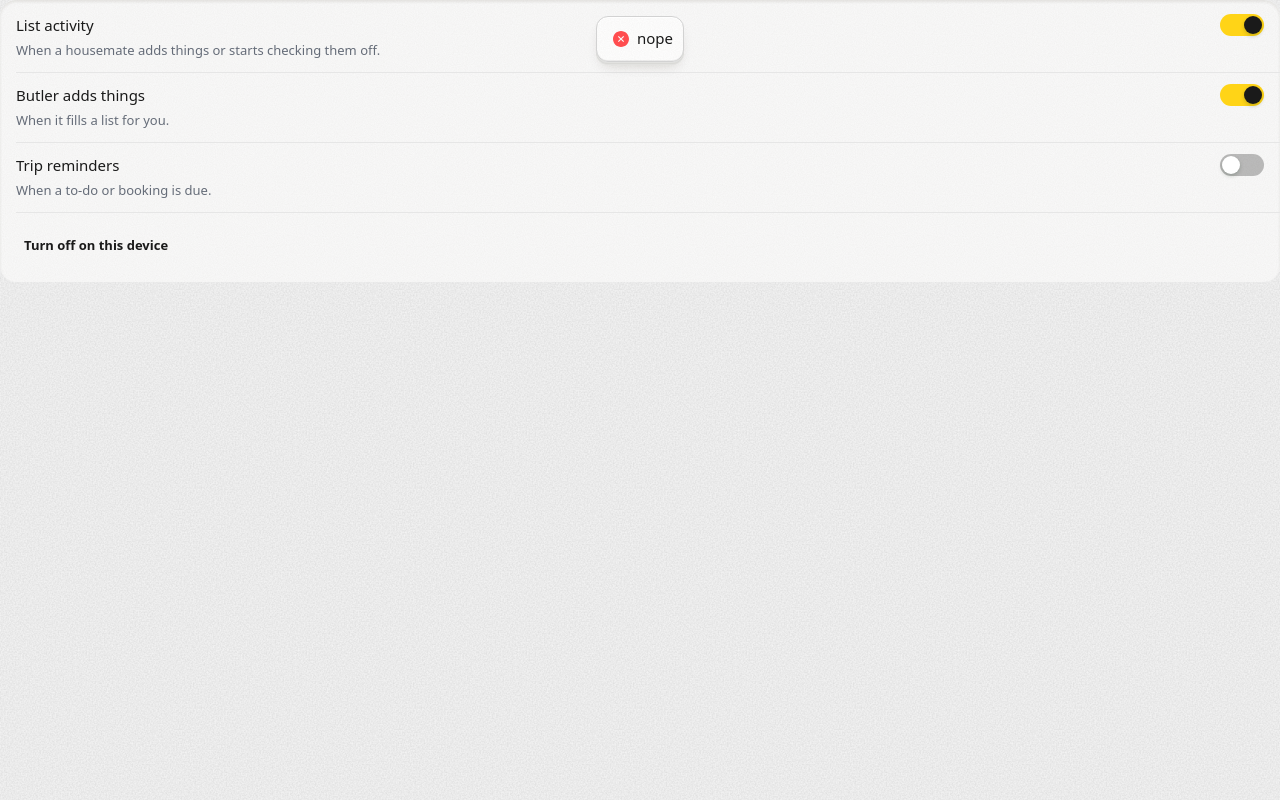
Notifications in Account settings › turns off on this device
Click the button "Turn off on this device".
click(96, 246)  # box [16,224,176,268]
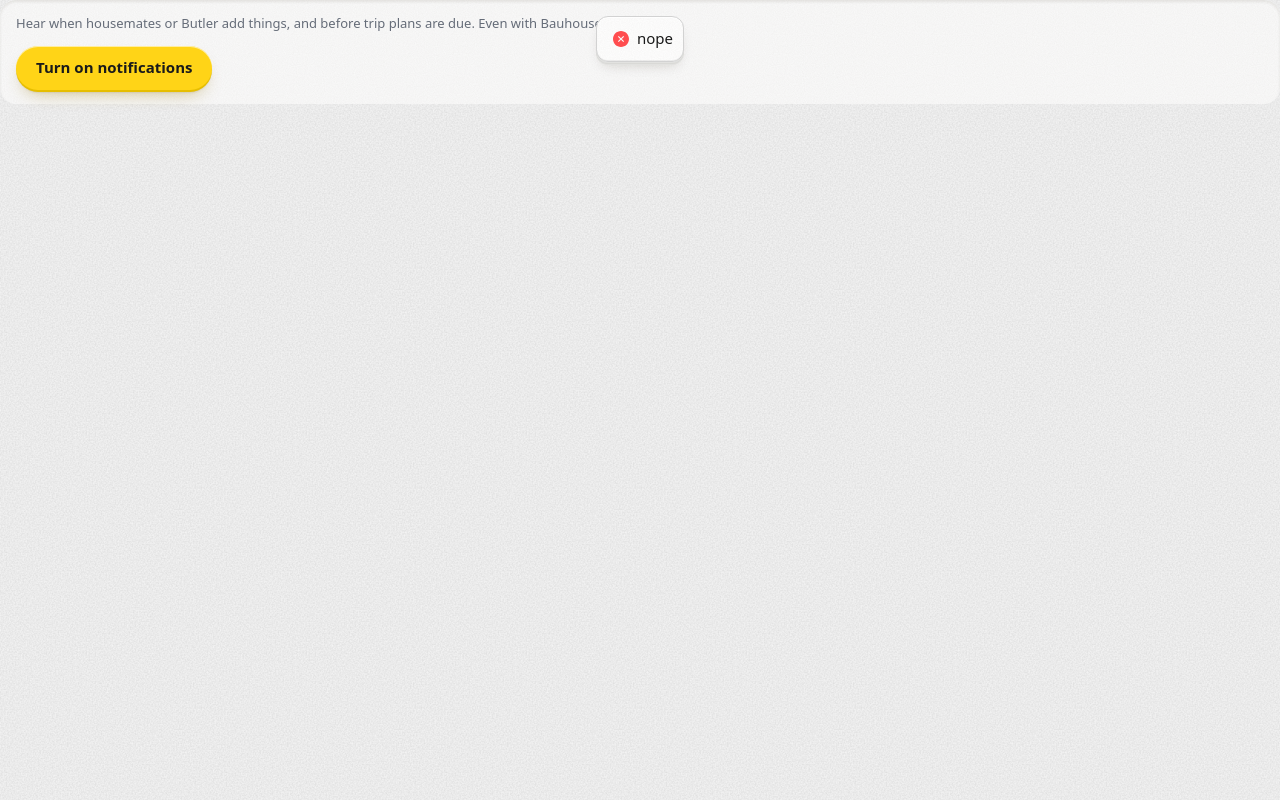
Now the button "Turn on notifications" is shown, box [16,46,212,90]
